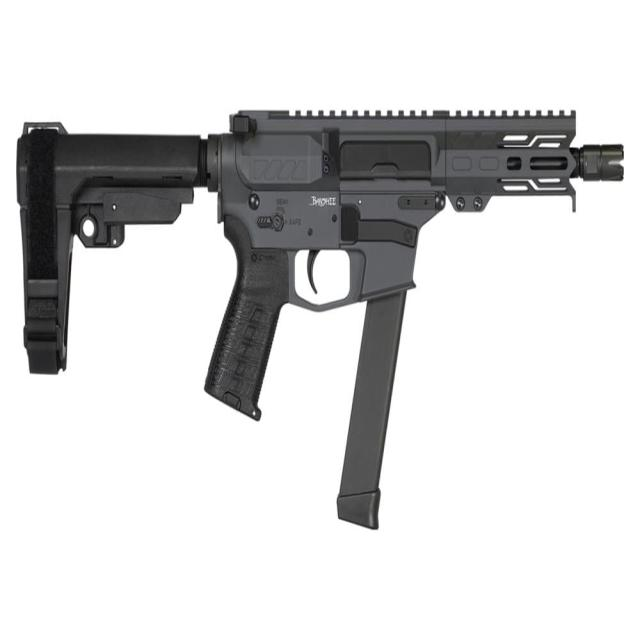SMG: (15, 110, 626, 530)
